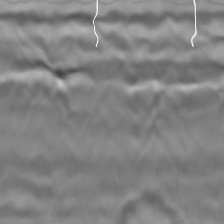Utility: (118, 184, 184, 224)
